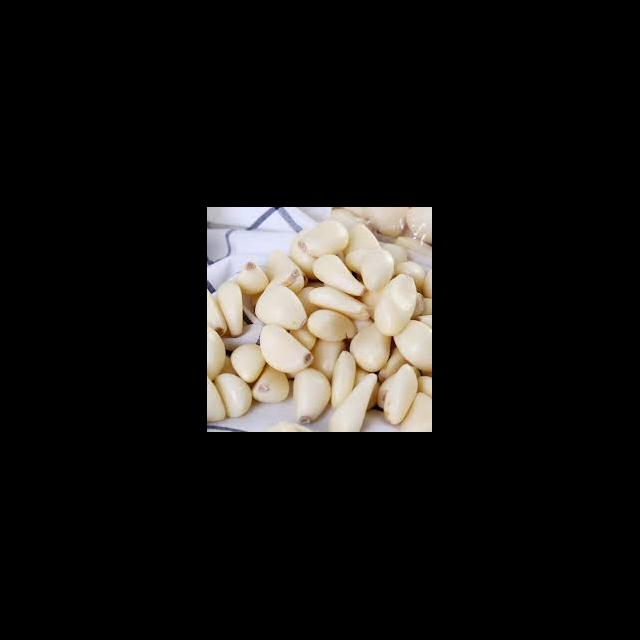garlic: (208, 286, 332, 420), (312, 252, 432, 389)
